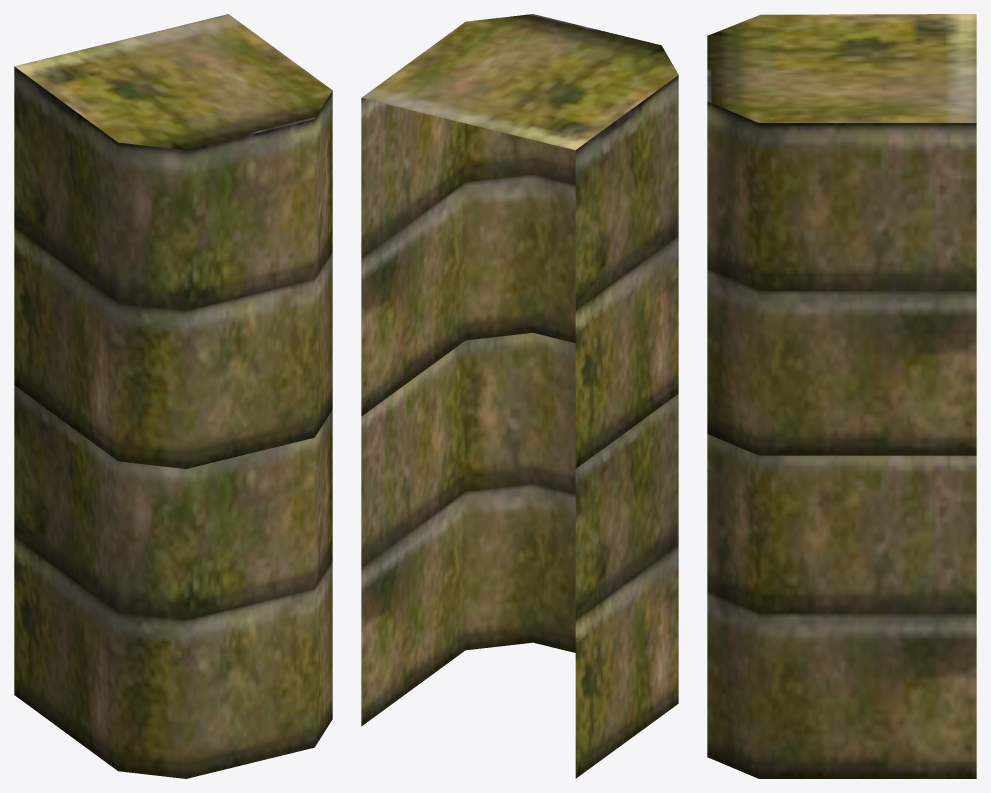
The model's file is OVERHILL_A_01_LINE422.fbx.
3 renders of one model, left to right at view 1: azimuth 30°, elevation 25°; view 2: azimuth 150°, elevation 25°; view 3: azimuth 270°, elevation 25°, orthographic. The views are drawn at different scales.
Visible parts, largest first — view 1: OVERHILL_A_01_LINE422; view 2: OVERHILL_A_01_LINE422; view 3: OVERHILL_A_01_LINE422.
Boxes of the visible parts, x1=… form: OVERHILL_A_01_LINE422: x1=14, y1=14, x2=332, y2=778; OVERHILL_A_01_LINE422: x1=361, y1=14, x2=678, y2=778; OVERHILL_A_01_LINE422: x1=707, y1=14, x2=976, y2=778.
Bounding box in the file's own units: 9604 × 26954 × 10021.
1 material, 1 textured.
